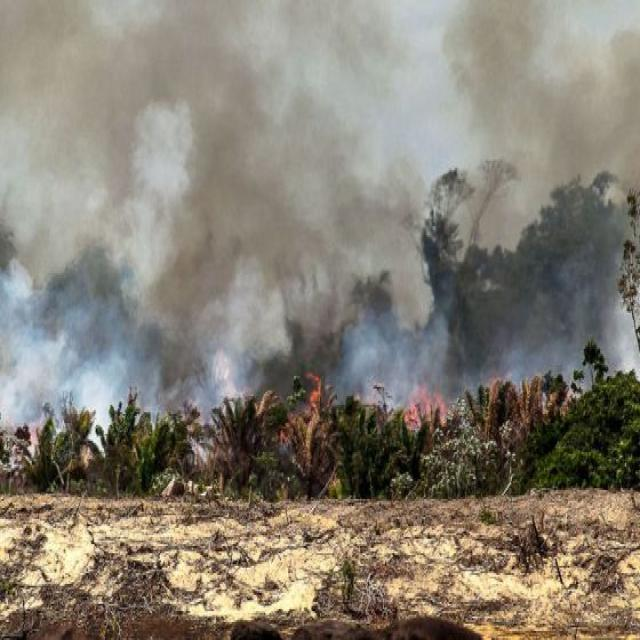Fire: (397, 381, 455, 441), (296, 368, 328, 450)
Smoke: (24, 20, 626, 378)
